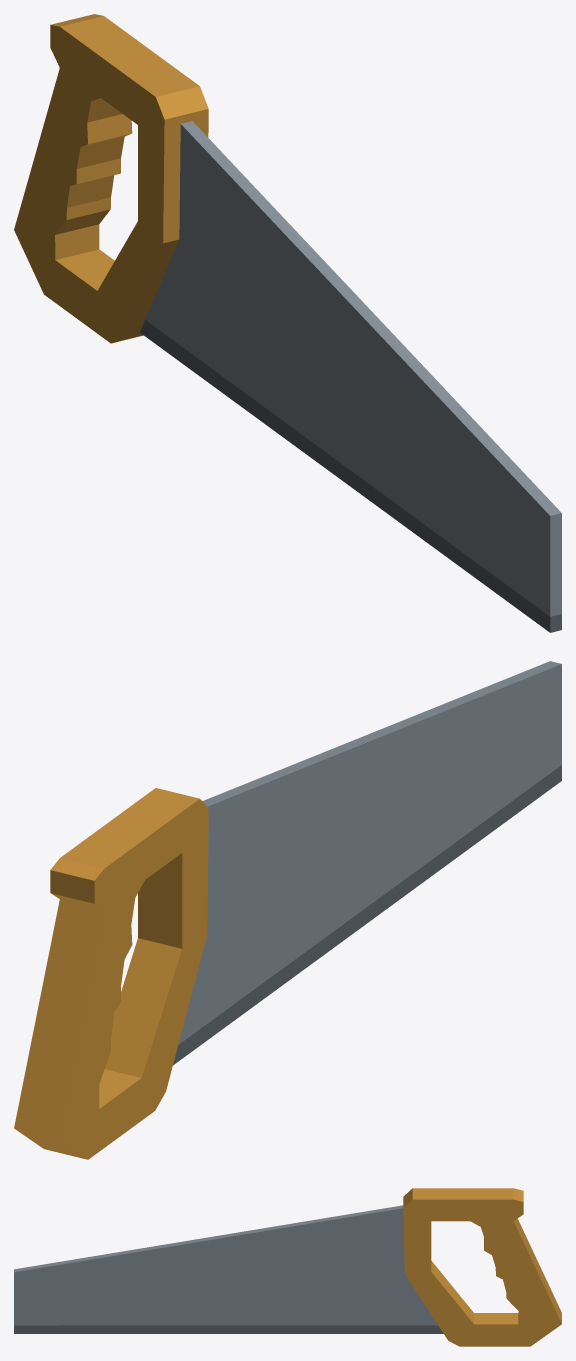
Rendered from SM_Tool_Handsaw_01.fbx.
3 renders of one model, top to bottom at view 1: azimuth 30°, elevation 25°; view 2: azimuth 150°, elevation 25°; view 3: azimuth 270°, elevation 25°, orthographic. The views are drawn at different scales.
Parts seen in each view (by area): view 1: SM_Tool_Handsaw_01; view 2: SM_Tool_Handsaw_01; view 3: SM_Tool_Handsaw_01.
Boxes of the visible parts, left/top/right/bottom form: SM_Tool_Handsaw_01: left=14, top=14, right=561, bottom=632; SM_Tool_Handsaw_01: left=14, top=661, right=561, bottom=1159; SM_Tool_Handsaw_01: left=14, top=1188, right=561, bottom=1346.
Bounding box in the file's own units: 3.96 × 23.9 × 80.62.
